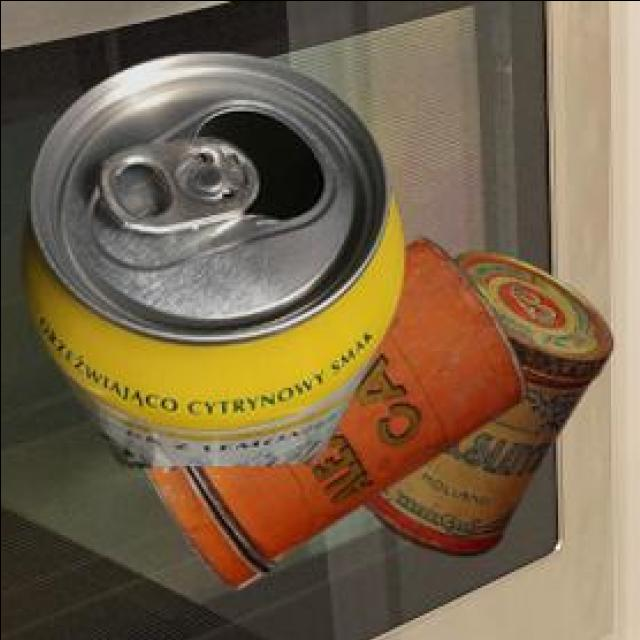logam: (17, 49, 399, 464), (142, 234, 521, 586), (358, 247, 609, 551)
